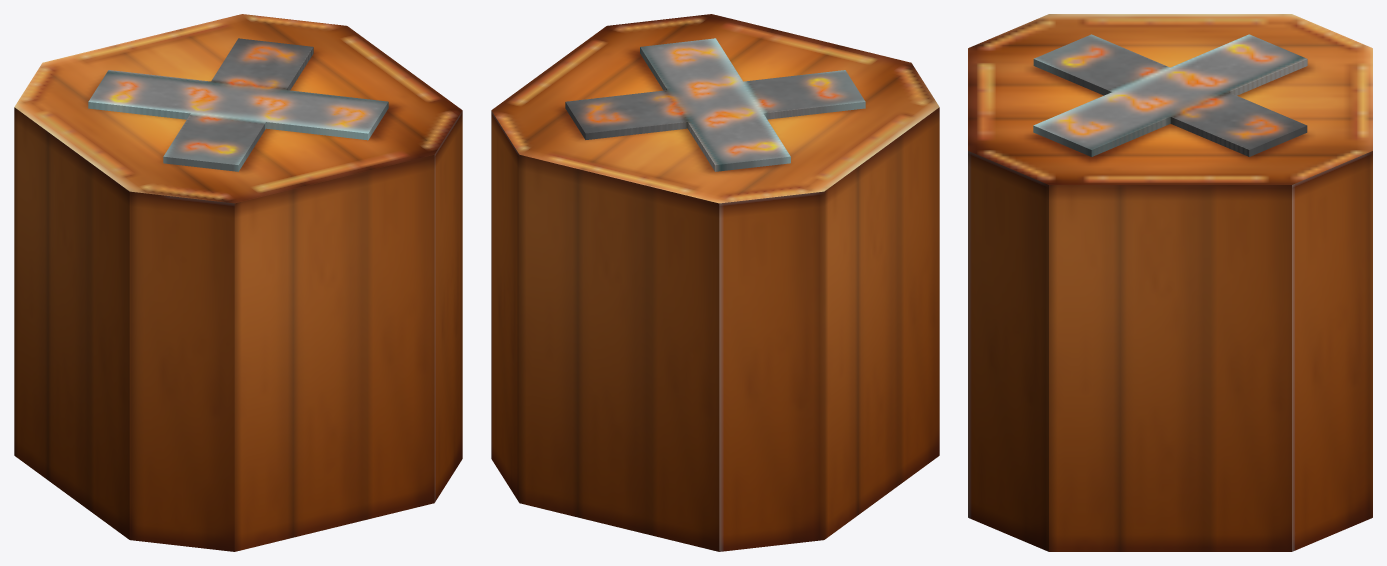
The model's file is Gema y Bloque.FBX.
The picture shows the model from 3 angles, left to right: view 1: azimuth 30°, elevation 25°; view 2: azimuth 150°, elevation 25°; view 3: azimuth 270°, elevation 25°; orthographic projection. The views are drawn at different scales.
Parts seen in each view (by area): view 1: Bloque_Molesto; view 2: Bloque_Molesto; view 3: Bloque_Molesto.
Part boxes in pixels (left/top/right/bottom): Bloque_Molesto: left=14, top=14, right=462, bottom=551; Bloque_Molesto: left=491, top=14, right=939, bottom=551; Bloque_Molesto: left=968, top=14, right=1372, bottom=551.
Bounding box in the file's own units: 39.37 × 40.16 × 39.37.
1 material, 1 textured.
